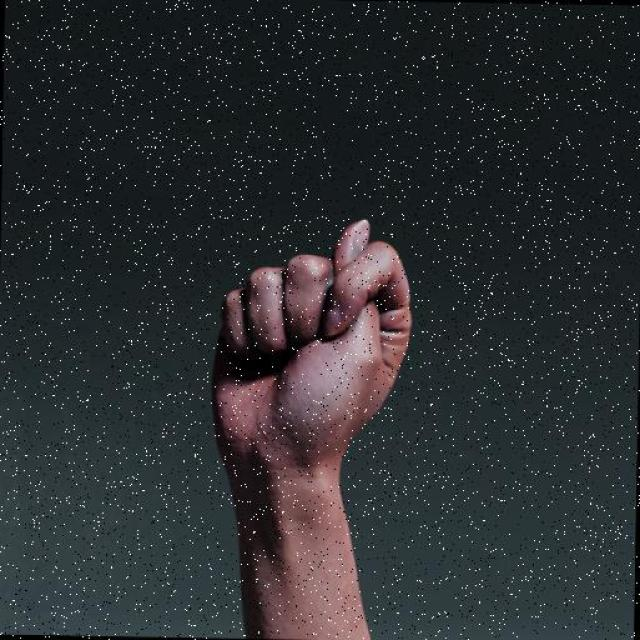T: (205, 215, 418, 480)
